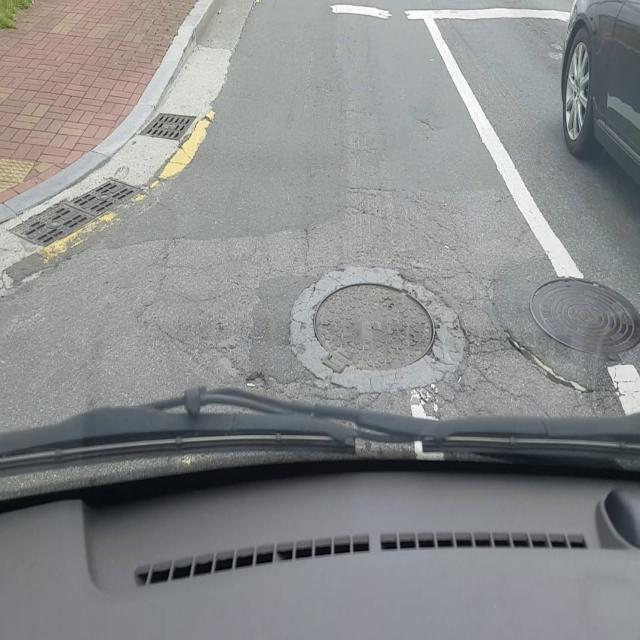pothole: (286, 259, 472, 401)
